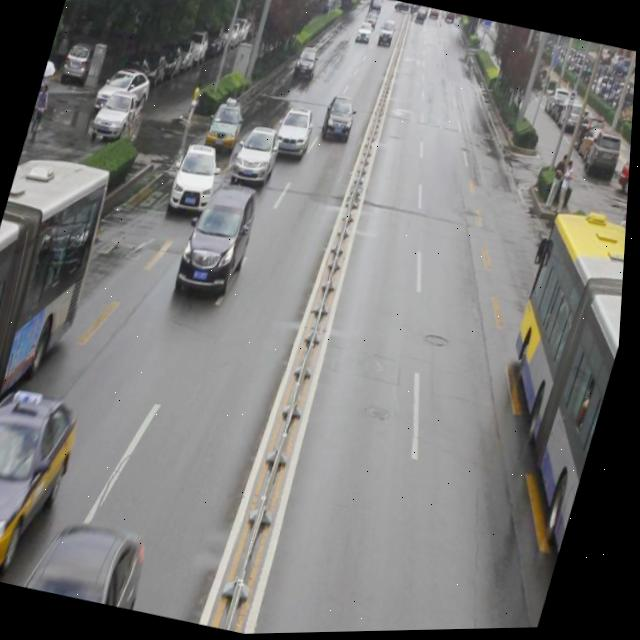car: (0, 381, 88, 576), (27, 515, 157, 612), (175, 178, 264, 306), (167, 139, 227, 220), (229, 119, 286, 196), (202, 94, 250, 161), (269, 105, 318, 163), (319, 95, 359, 145)
van: (458, 215, 629, 564), (0, 149, 122, 488)
